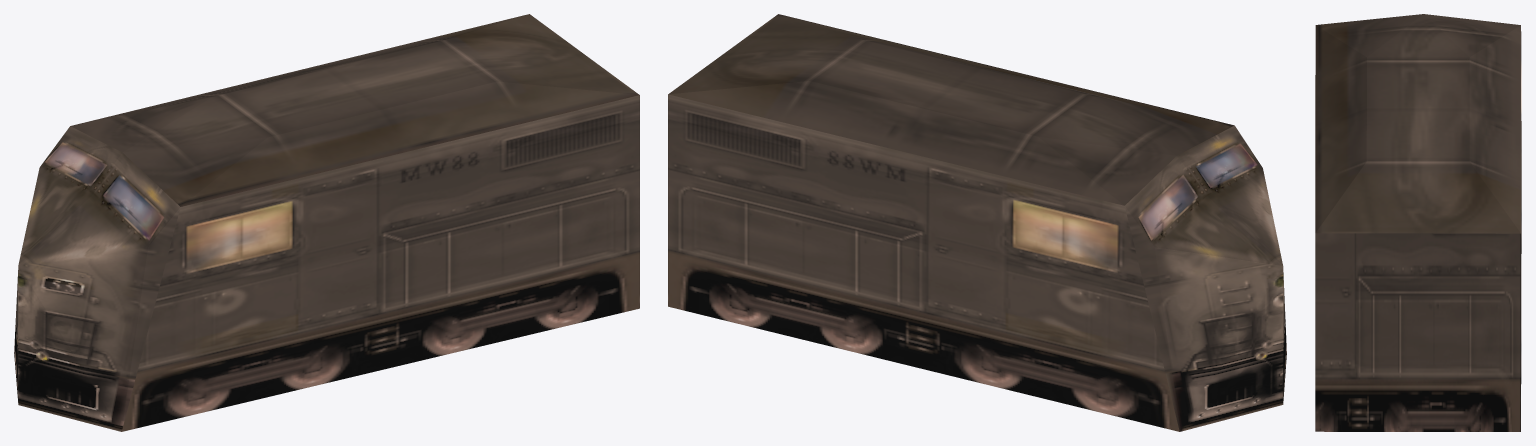
The model's file is Train01.glb.
3 renders of one model, left to right at view 1: azimuth 30°, elevation 25°; view 2: azimuth 150°, elevation 25°; view 3: azimuth 270°, elevation 25°, orthographic. The views are drawn at different scales.
Visible parts, largest first — view 1: Train01; view 2: Train01; view 3: Train01.
Part boxes in pixels (left/top/right/bottom): Train01: left=14, top=14, right=639, bottom=431; Train01: left=668, top=14, right=1286, bottom=431; Train01: left=1315, top=14, right=1521, bottom=431.
Bounding box in the file's own units: 1500 × 597 × 510.
Materials: 1 (1 with a texture image).
